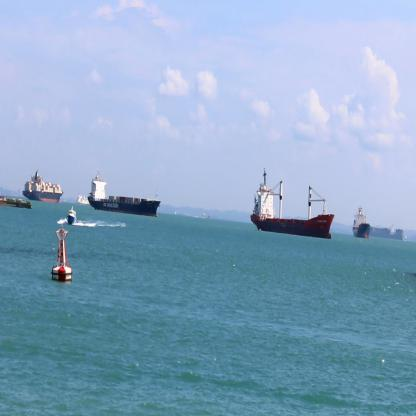Container Ship: (250, 167, 336, 241), (88, 170, 161, 218), (22, 168, 63, 203), (352, 204, 370, 240), (370, 226, 404, 242), (0, 195, 32, 209), (76, 192, 90, 206)
